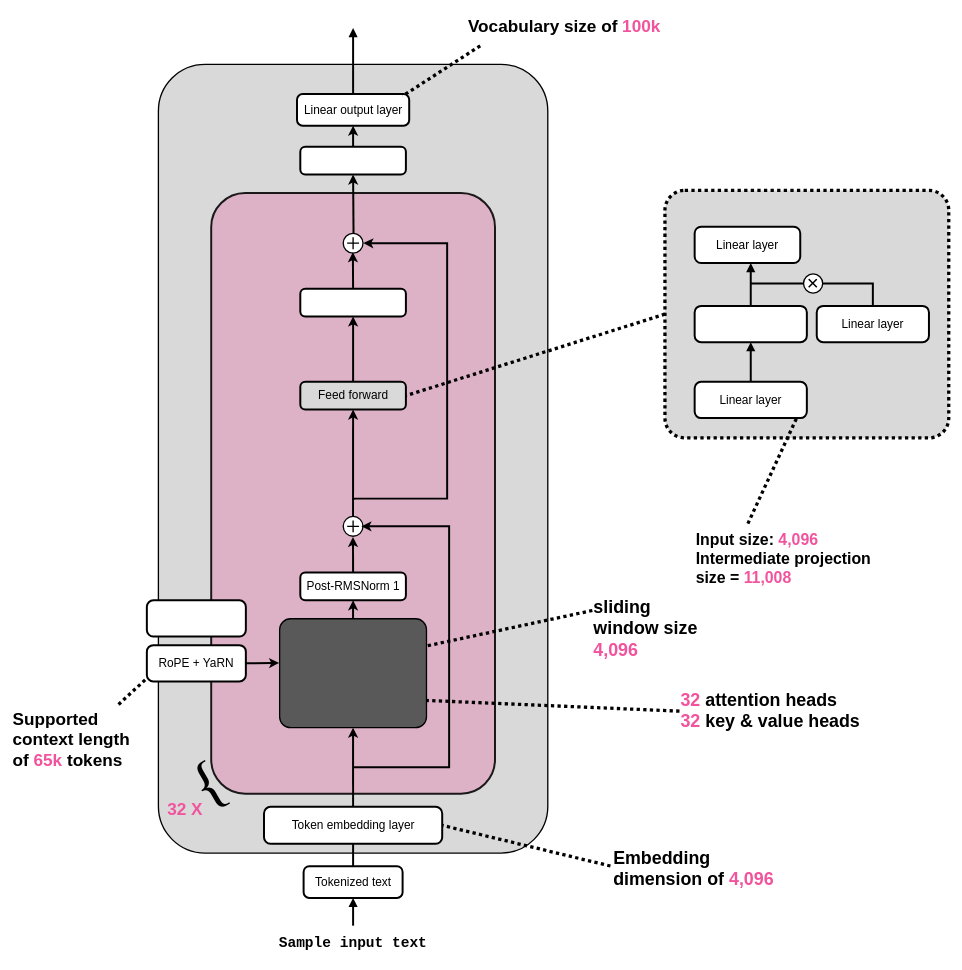
Image size: 962x970. Some labels were removed from this diagram. Here are the shapes that lost their labels. From the top down, the centre of each, then its label:
At point (353, 160): "Final RMSNorm".
At point (353, 302): "Post-RMSNorm 2".
At point (750, 324): "SiLU activation".
At point (196, 618): "QKNorm".
At point (353, 673): "3:1(local:global) sliding window grouped-query attention".
